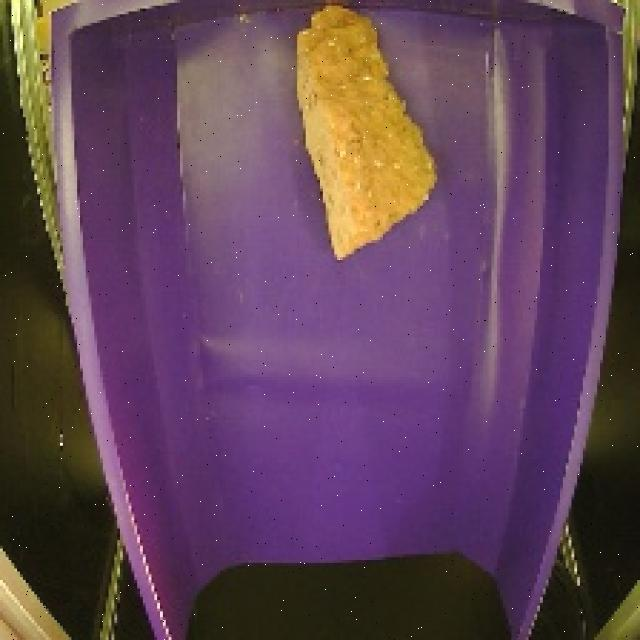brick: (283, 1, 444, 268)
